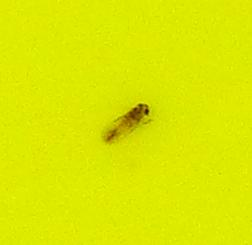Hemiptera: (100, 100, 152, 145)
